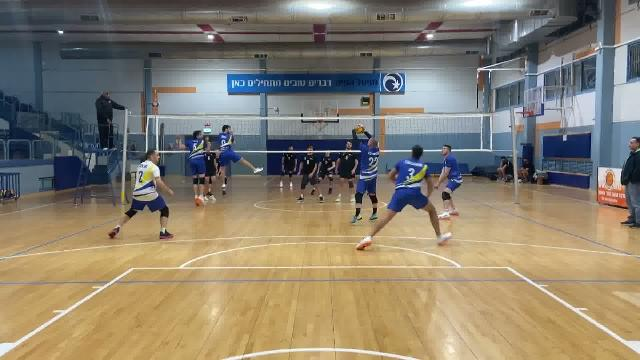ball: (355, 124, 367, 135)
